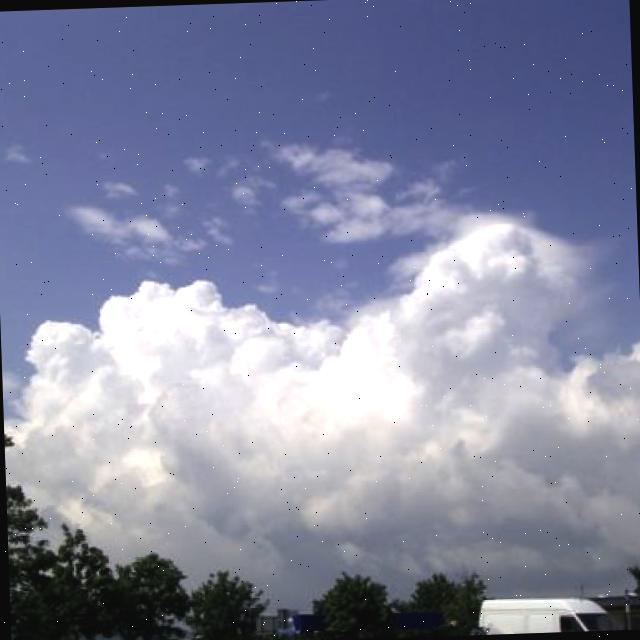Cu: (1, 143, 640, 524)
